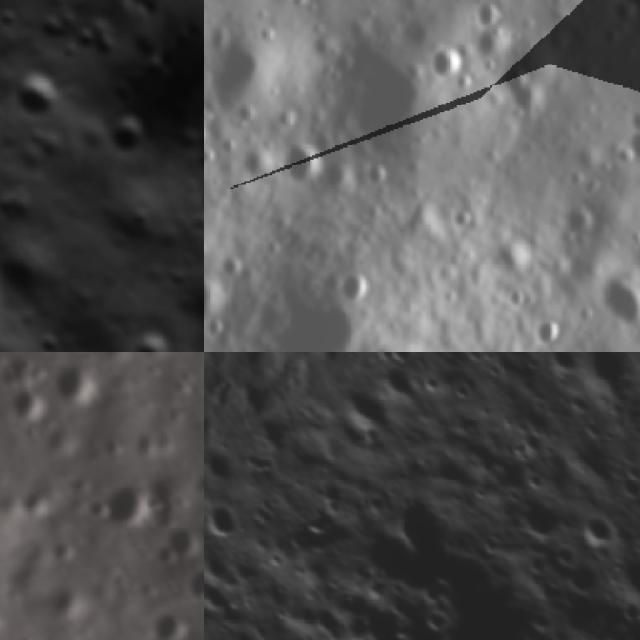crater: (304, 18, 450, 169), (378, 558, 590, 640), (0, 218, 80, 321), (256, 287, 372, 352), (379, 479, 462, 568), (204, 30, 279, 118), (0, 54, 79, 134), (347, 516, 424, 596), (330, 370, 402, 446), (89, 98, 162, 172), (349, 584, 436, 640), (488, 52, 550, 128), (570, 352, 640, 408), (588, 263, 640, 334), (507, 485, 567, 545), (371, 352, 425, 410), (271, 138, 324, 196), (308, 151, 362, 207), (569, 499, 623, 555), (100, 478, 154, 532), (602, 540, 640, 614), (423, 36, 470, 91), (115, 316, 184, 352), (204, 492, 244, 551), (54, 364, 104, 409), (332, 264, 378, 310), (204, 569, 238, 628), (44, 578, 88, 623), (234, 140, 274, 187), (8, 383, 50, 427), (164, 521, 204, 564), (152, 600, 193, 640), (204, 269, 232, 325), (530, 316, 570, 352), (18, 486, 54, 524), (469, 0, 506, 32), (538, 352, 581, 379), (44, 534, 80, 566), (86, 491, 118, 525), (214, 250, 248, 280), (150, 543, 182, 572), (183, 562, 204, 605), (621, 126, 640, 172), (102, 435, 128, 461)
